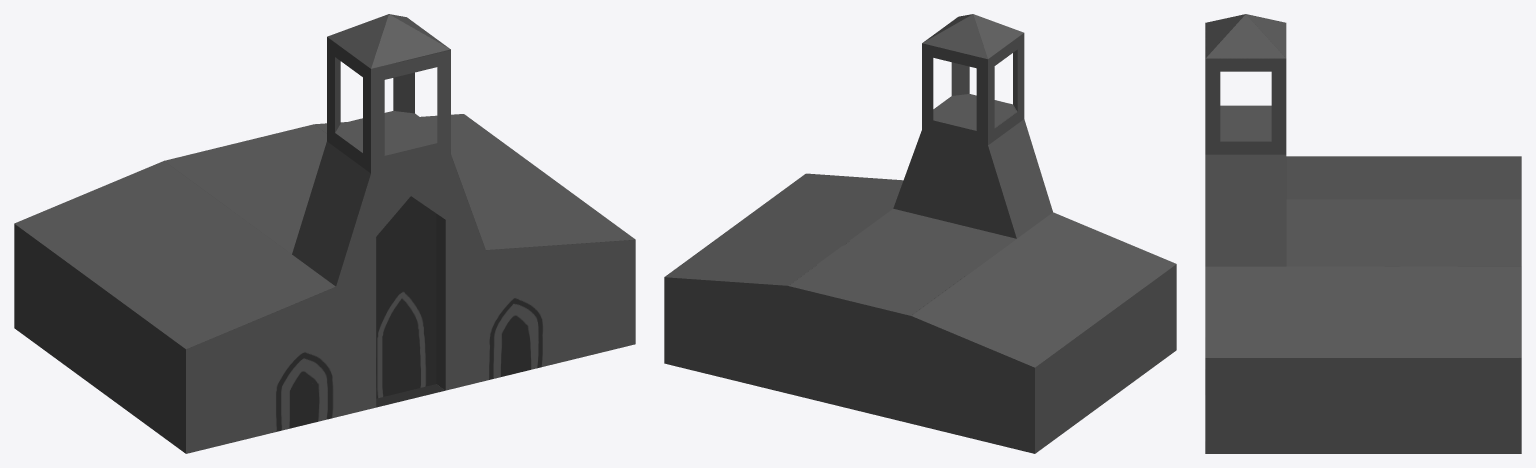
Rendered from kostel.fbx.
3 renders of one model, left to right at view 1: azimuth 30°, elevation 25°; view 2: azimuth 150°, elevation 25°; view 3: azimuth 270°, elevation 25°, orthographic. The views are drawn at different scales.
Parts seen in each view (by area): view 1: Cube; view 2: Cube; view 3: Cube.
Part boxes in pixels (box(x1,y1,x2,y2)): Cube: box(14, 14, 635, 453); Cube: box(664, 14, 1176, 453); Cube: box(1205, 14, 1521, 453).
Bounding box in the file's own units: 1800 × 1411 × 1192.
Materials: 1 (1 with a texture image).
